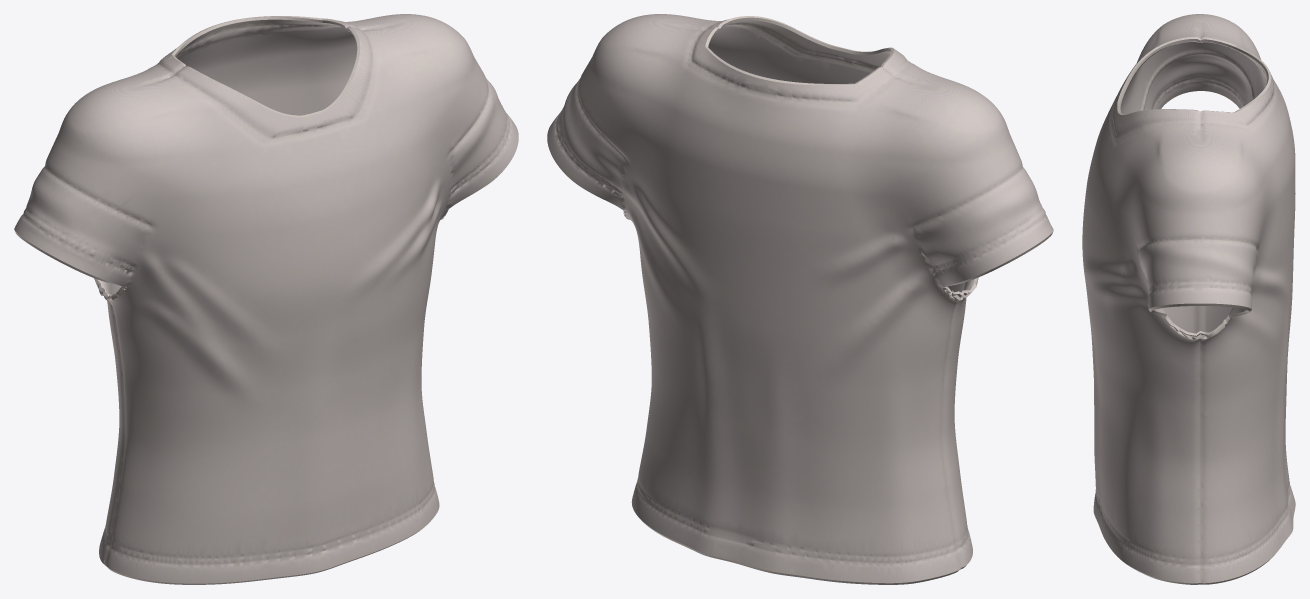
File: 07_baby_tee_pbr.glb
3 renders of one model, left to right at view 1: azimuth 30°, elevation 25°; view 2: azimuth 150°, elevation 25°; view 3: azimuth 270°, elevation 25°, orthographic. The views are drawn at different scales.
Visible parts, largest first — view 1: Camiseta PBR; view 2: Camiseta PBR; view 3: Camiseta PBR.
Boxes of the visible parts, x1,y1,x2,y2 form: Camiseta PBR: [14, 14, 518, 584]; Camiseta PBR: [547, 14, 1053, 584]; Camiseta PBR: [1082, 14, 1295, 584].
Bounding box in the file's own units: 0.5518 × 0.5248 × 0.2297.
Materials: 1 (1 with a texture image).
